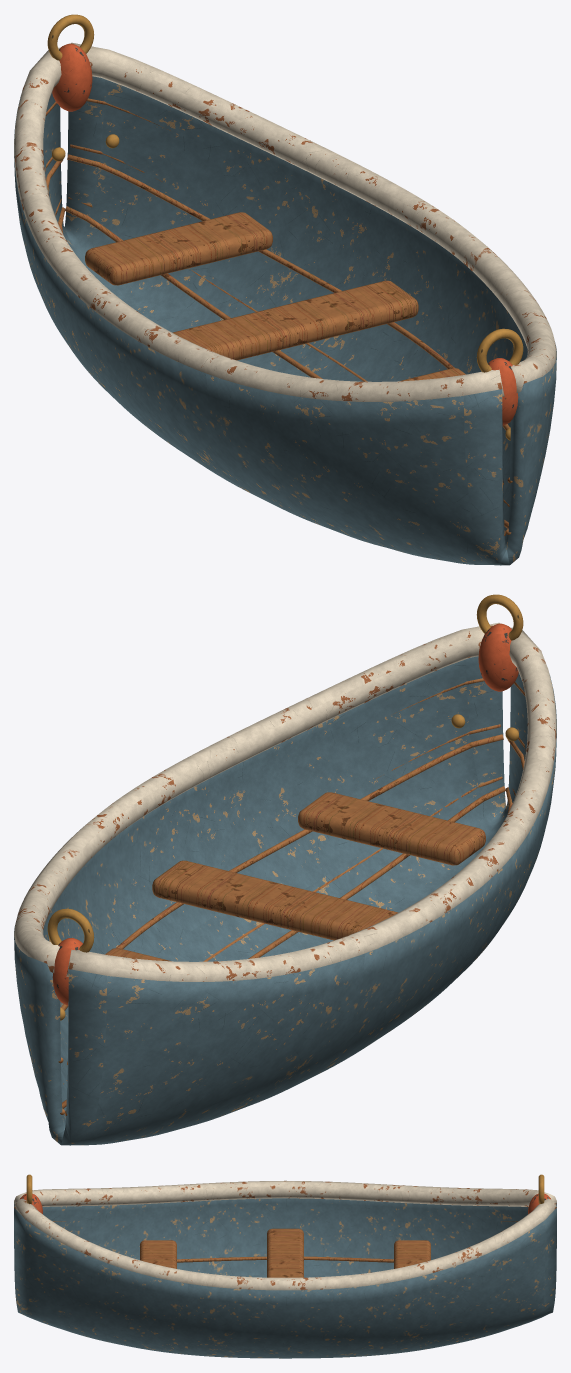
The model's file is S9_小船_分享包版.glb.
3 renders of one model, top to bottom at view 1: azimuth 30°, elevation 25°; view 2: azimuth 150°, elevation 25°; view 3: azimuth 270°, elevation 25°, orthographic. The views are drawn at different scales.
Parts seen in each view (by area): view 1: Hollow blue wooden hull, Ivory gunwale.001, Ivory gunwale, Oak rowing bench.001, Oak rowing bench.002, Clinker hull plank seam.003, Coral stem cap.001, Clinker hull plank seam.002, Coral stem cap, Brass mooring ring.001, Brass mooring ring; view 2: Hollow blue wooden hull, Ivory gunwale.001, Ivory gunwale, Oak rowing bench.001, Oak rowing bench, Clinker hull plank seam.003, Coral stem cap, Clinker hull plank seam.002, Coral stem cap.001, Brass mooring ring, Brass mooring ring.001; view 3: Hollow blue wooden hull, Ivory gunwale, Ivory gunwale.001, Oak rowing bench.001, Oak rowing bench, Oak rowing bench.002, Clinker hull plank seam.001.
Part boxes in pixels (x1=…): Hollow blue wooden hull: x1=14, y1=76, x2=556, y2=565; Ivory gunwale.001: x1=71, y1=42, x2=556, y2=393; Ivory gunwale: x1=14, y1=47, x2=504, y2=401; Oak rowing bench.001: x1=172, y1=280, x2=418, y2=360; Oak rowing bench.002: x1=85, y1=212, x2=272, y2=285; Clinker hull plank seam.003: x1=67, y1=154, x2=512, y2=483; Coral stem cap.001: x1=52, y1=43, x2=92, y2=111; Clinker hull plank seam.002: x1=65, y1=206, x2=511, y2=534; Coral stem cap: x1=488, y1=358, x2=518, y2=425; Brass mooring ring.001: x1=47, y1=14, x2=94, y2=60; Brass mooring ring: x1=476, y1=328, x2=523, y2=372; Hollow blue wooden hull: x1=14, y1=656, x2=556, y2=1145; Ivory gunwale.001: x1=14, y1=622, x2=499, y2=973; Ivory gunwale: x1=66, y1=627, x2=556, y2=981; Oak rowing bench.001: x1=152, y1=860, x2=398, y2=940; Oak rowing bench: x1=298, y1=792, x2=485, y2=865; Clinker hull plank seam.003: x1=58, y1=734, x2=503, y2=1063; Coral stem cap: x1=478, y1=623, x2=518, y2=691; Clinker hull plank seam.002: x1=60, y1=786, x2=505, y2=1114; Coral stem cap.001: x1=52, y1=938, x2=82, y2=1005; Brass mooring ring: x1=476, y1=594, x2=523, y2=640; Brass mooring ring.001: x1=47, y1=908, x2=94, y2=952; Hollow blue wooden hull: x1=14, y1=1198, x2=556, y2=1358; Ivory gunwale: x1=14, y1=1180, x2=556, y2=1206; Ivory gunwale.001: x1=14, y1=1198, x2=556, y2=1290; Oak rowing bench.001: x1=267, y1=1228, x2=303, y2=1277; Oak rowing bench: x1=140, y1=1240, x2=176, y2=1268; Oak rowing bench.002: x1=394, y1=1240, x2=430, y2=1268; Clinker hull plank seam.001: x1=177, y1=1256, x2=393, y2=1262.
Bounding box in the file's own units: 1.26 × 0.965 × 2.78.
5 materials, 5 textured.
